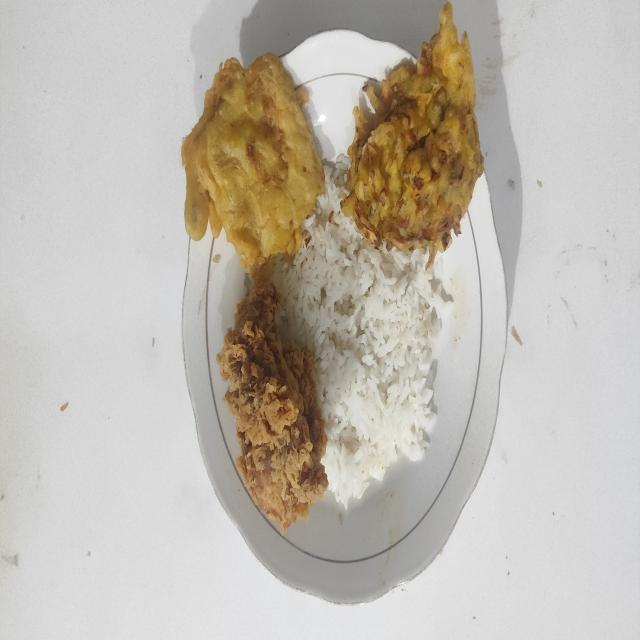nasi_putih: (272, 161, 452, 509)
